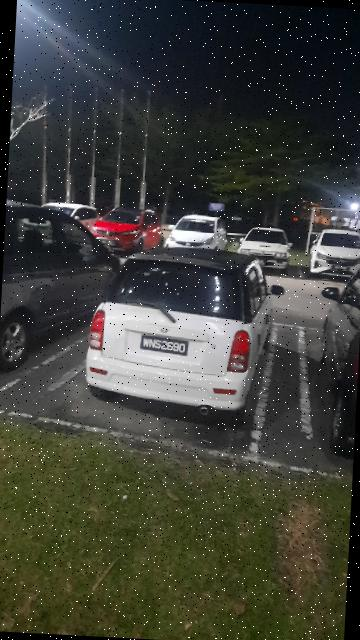License_Plate: (138, 333, 190, 358)
car: (84, 241, 288, 420)
